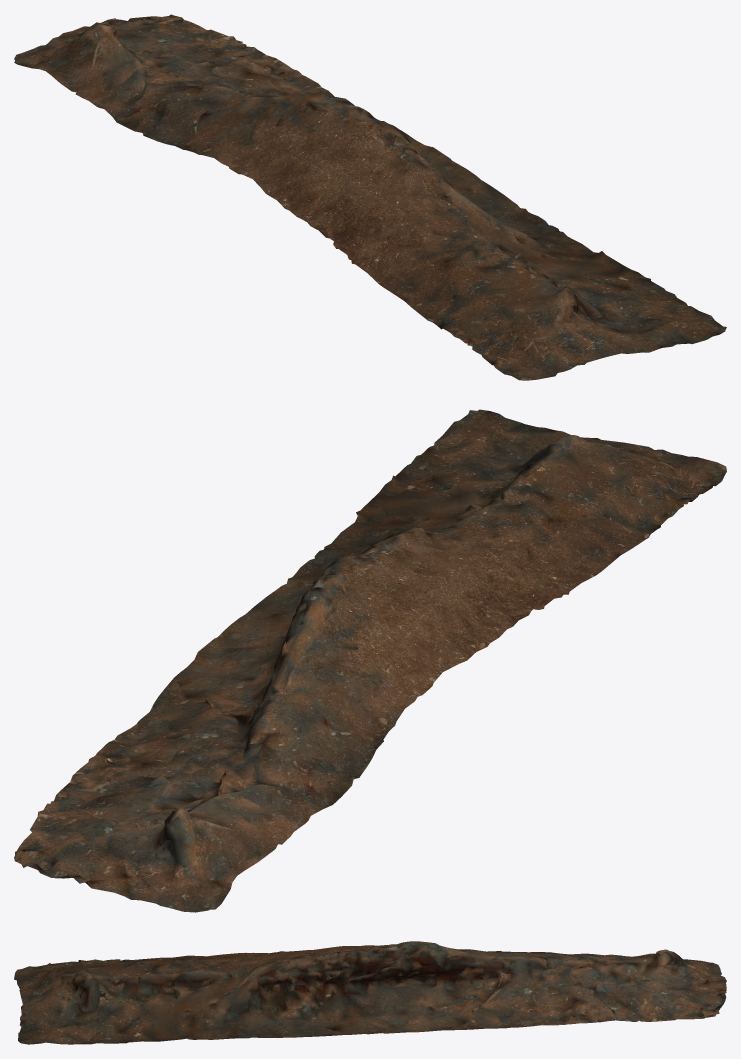
The model's file is single_root_lod.glb.
The picture shows the model from 3 angles, top to bottom: view 1: azimuth 30°, elevation 25°; view 2: azimuth 150°, elevation 25°; view 3: azimuth 270°, elevation 25°; orthographic projection. The views are drawn at different scales.
Visible parts, largest first — view 1: single_root; view 2: single_root; view 3: single_root.
Part boxes in pixels (x1=…): single_root: x1=14, y1=14, x2=726, y2=380; single_root: x1=14, y1=409, x2=726, y2=912; single_root: x1=14, y1=941, x2=726, y2=1044.
Bounding box in the file's own units: 0.5552 × 0.1762 × 1.84.
Materials: 1 (1 with a texture image).
